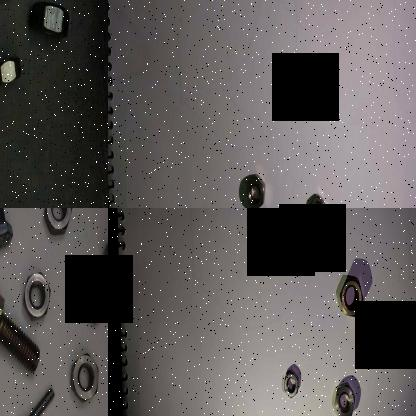Bolts: (0, 288, 38, 379), (14, 376, 57, 416), (0, 208, 19, 256)
NUTS: (20, 262, 52, 324), (68, 352, 102, 408), (29, 0, 75, 41), (79, 280, 105, 326), (338, 272, 364, 318), (40, 208, 77, 238), (330, 376, 356, 416), (242, 168, 266, 208), (0, 50, 22, 86), (280, 364, 300, 400)
